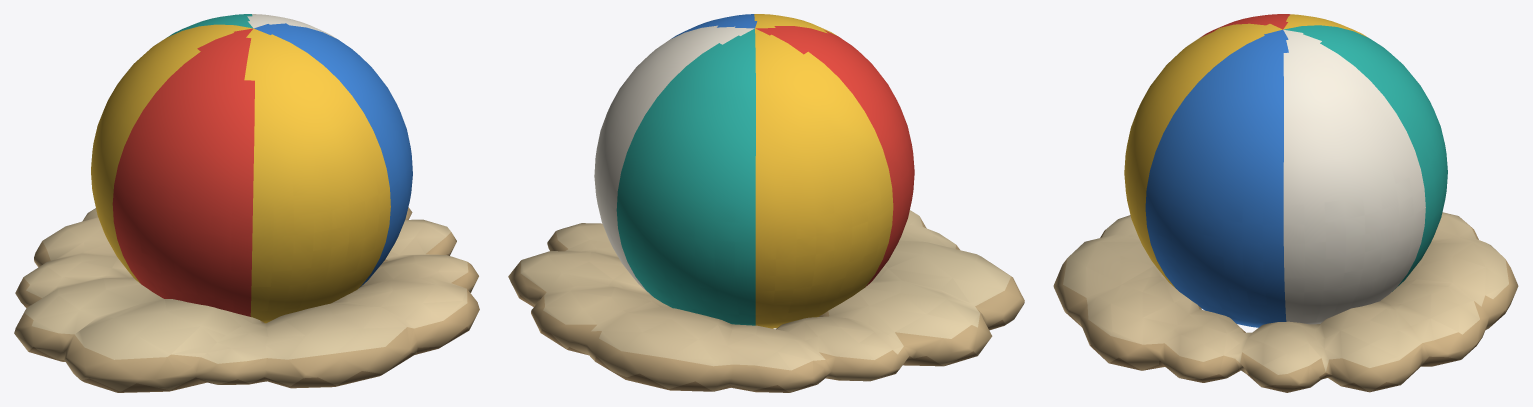
File: shore_beach_ball.glb
3 renders of one model, left to right at view 1: azimuth 30°, elevation 25°; view 2: azimuth 150°, elevation 25°; view 3: azimuth 270°, elevation 25°, orthographic.
Visible parts, largest first — view 1: shore_beach_ball; view 2: shore_beach_ball; view 3: shore_beach_ball.
Boxes of the visible parts, x1,y1,x2,y2 form: shore_beach_ball: [14, 14, 479, 392]; shore_beach_ball: [508, 14, 1024, 392]; shore_beach_ball: [1053, 14, 1518, 392].
Bounding box in the file's own units: 10.43 × 6.77 × 9.79.
